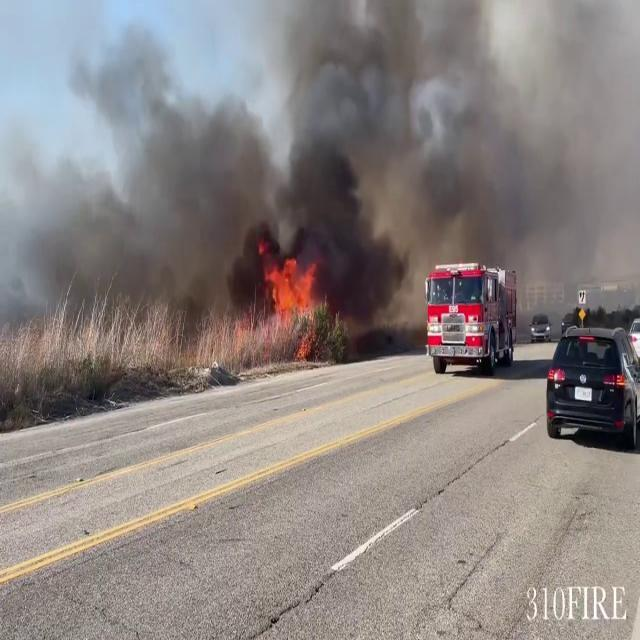Fire: (260, 245, 326, 339)
Smoke: (260, 0, 640, 316), (0, 22, 271, 348)
